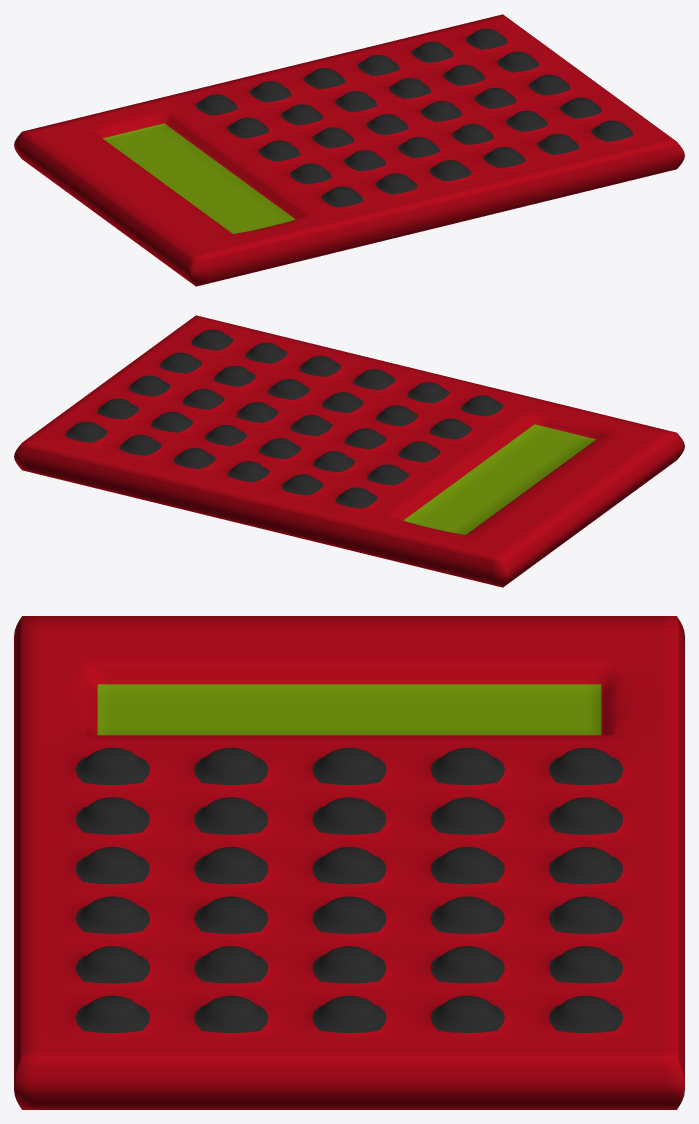
The model's file is Calc.fbx.
3 renders of one model, top to bottom at view 1: azimuth 30°, elevation 25°; view 2: azimuth 150°, elevation 25°; view 3: azimuth 270°, elevation 25°, orthographic. The views are drawn at different scales.
Visible parts, largest first — view 1: Calc; view 2: Calc; view 3: Calc.
Boxes of the visible parts, left/top/right/bottom form: Calc: left=14, top=14, right=684, bottom=286; Calc: left=14, top=315, right=684, bottom=587; Calc: left=14, top=616, right=684, bottom=1109.
Bounding box in the file's own units: 186 × 13.77 × 117.
